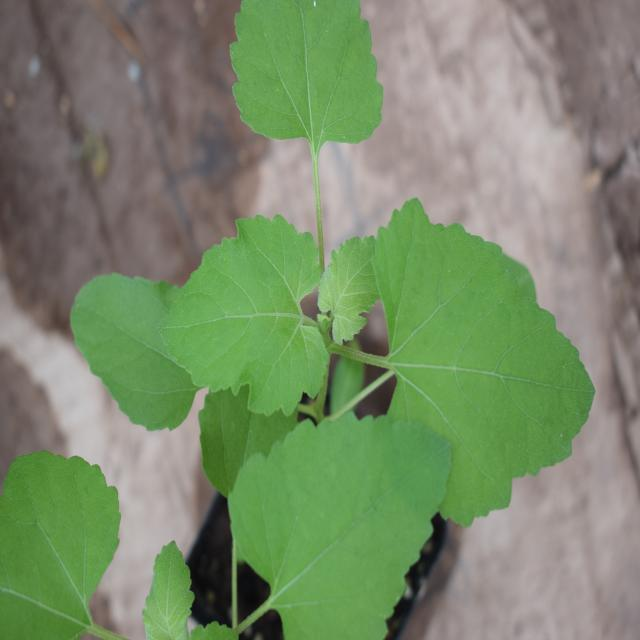cocklebur: (86, 17, 574, 550)
